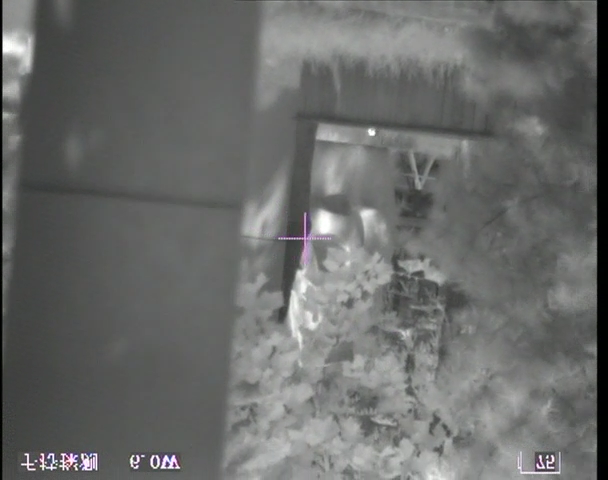my: (367, 127, 377, 137)
